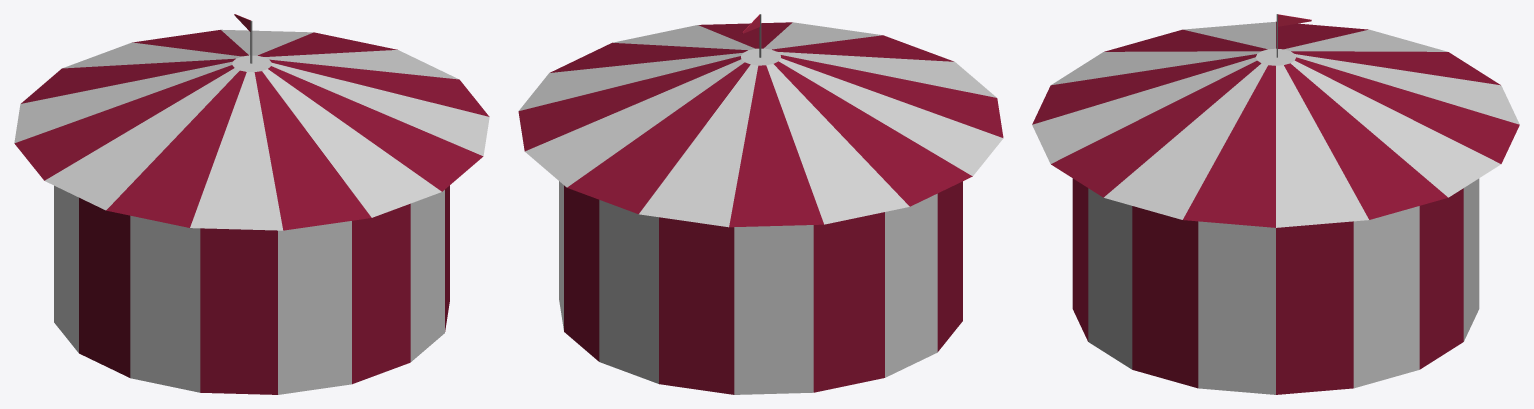
The model's file is Tent01.fbx.
3 views of the same model, side by side, from view 1: azimuth 30°, elevation 25°; view 2: azimuth 150°, elevation 25°; view 3: azimuth 270°, elevation 25° (orthographic). The views are drawn at different scales.
Parts seen in each view (by area): view 1: Tent01; view 2: Tent01; view 3: Tent01.
Boxes of the visible parts, <box> form: Tent01: <box>14,14,489,394</box>; Tent01: <box>518,14,1003,394</box>; Tent01: <box>1032,14,1519,394</box>.
Bounding box in the file's own units: 720 × 480 × 720.
